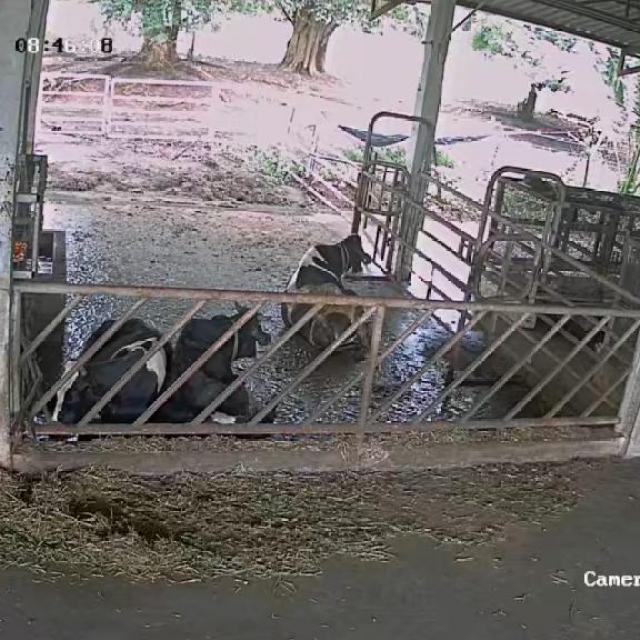lying down: (51, 314, 172, 452), (167, 300, 282, 444), (278, 222, 377, 367)
